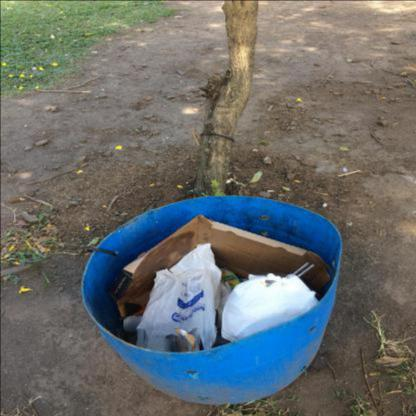Carton: (107, 214, 333, 317), (219, 268, 241, 291)
Cigarette: (266, 190, 273, 192)
Cup: (123, 315, 142, 332)
Plastic bag - wrapper: (136, 243, 231, 351), (221, 273, 318, 342), (173, 328, 196, 352)
Straw: (297, 264, 314, 278), (292, 262, 309, 275)
